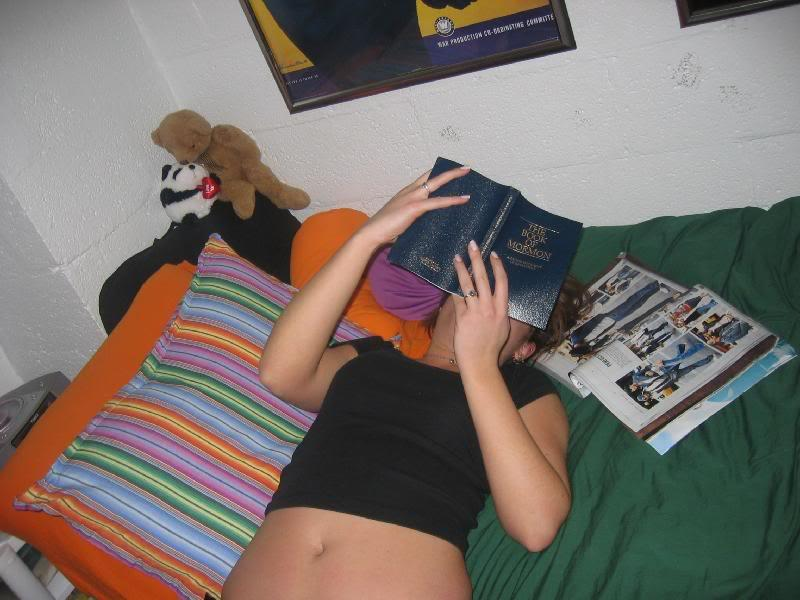person: (217, 165, 575, 600)
